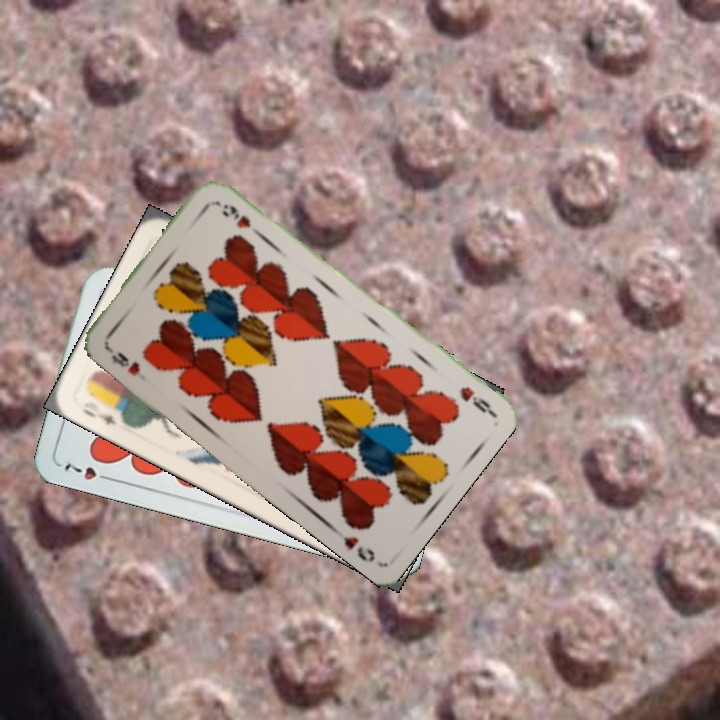EO: (79, 403, 129, 428)
H7: (60, 458, 116, 484)
H9: (103, 343, 149, 383), (455, 382, 495, 417)
